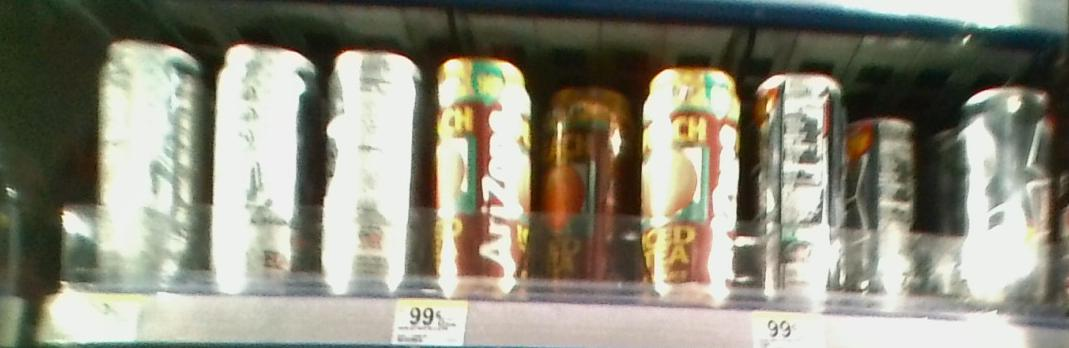bottle: (210, 36, 316, 300), (641, 54, 748, 306), (951, 76, 1062, 311), (429, 48, 534, 296), (95, 34, 195, 284), (324, 43, 421, 299), (748, 66, 848, 309), (540, 77, 639, 293), (846, 98, 922, 301)
